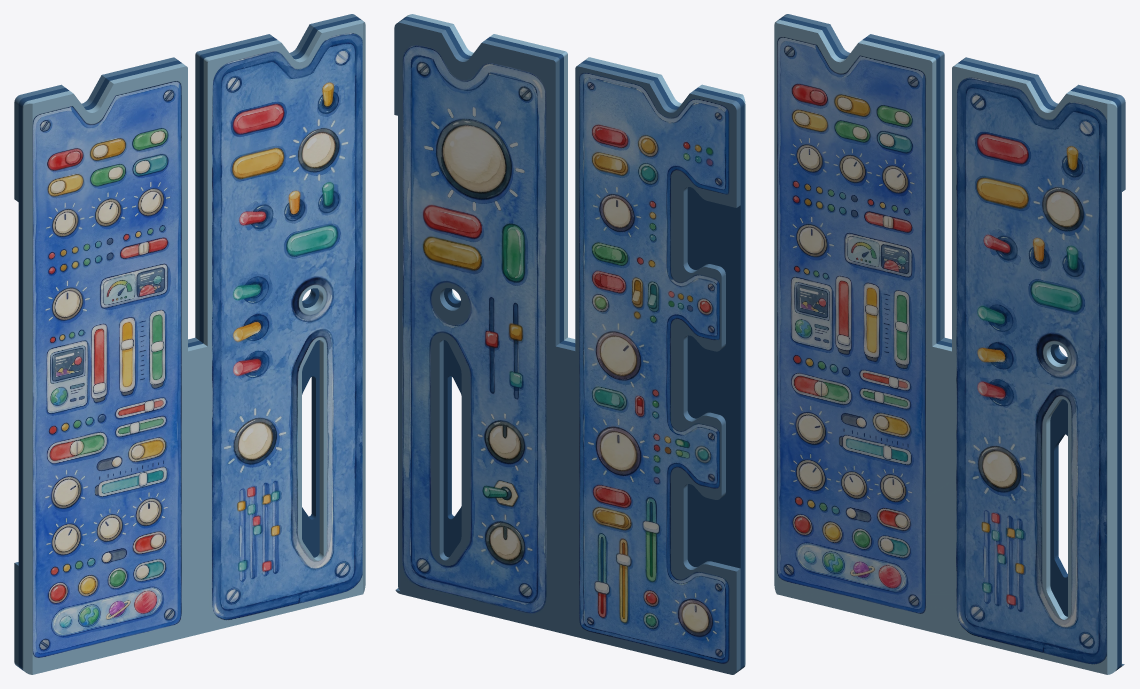
File: narrow-2-bottom-linked.glb
The picture shows the model from 3 angles, left to right: view 1: azimuth 30°, elevation 25°; view 2: azimuth 150°, elevation 25°; view 3: azimuth 330°, elevation 25°; orthographic projection.
Parts seen in each view (by area): view 1: narrow-2-bottom-linked; view 2: narrow-2-bottom-linked; view 3: narrow-2-bottom-linked.
Boxes of the visible parts, bbox=[...] form: narrow-2-bottom-linked: bbox=[14, 14, 365, 674]; narrow-2-bottom-linked: bbox=[394, 14, 745, 674]; narrow-2-bottom-linked: bbox=[774, 14, 1125, 674].
Size of the model in its own units: 580 by 925 by 36.
Materials: 5 (2 with a texture image).
